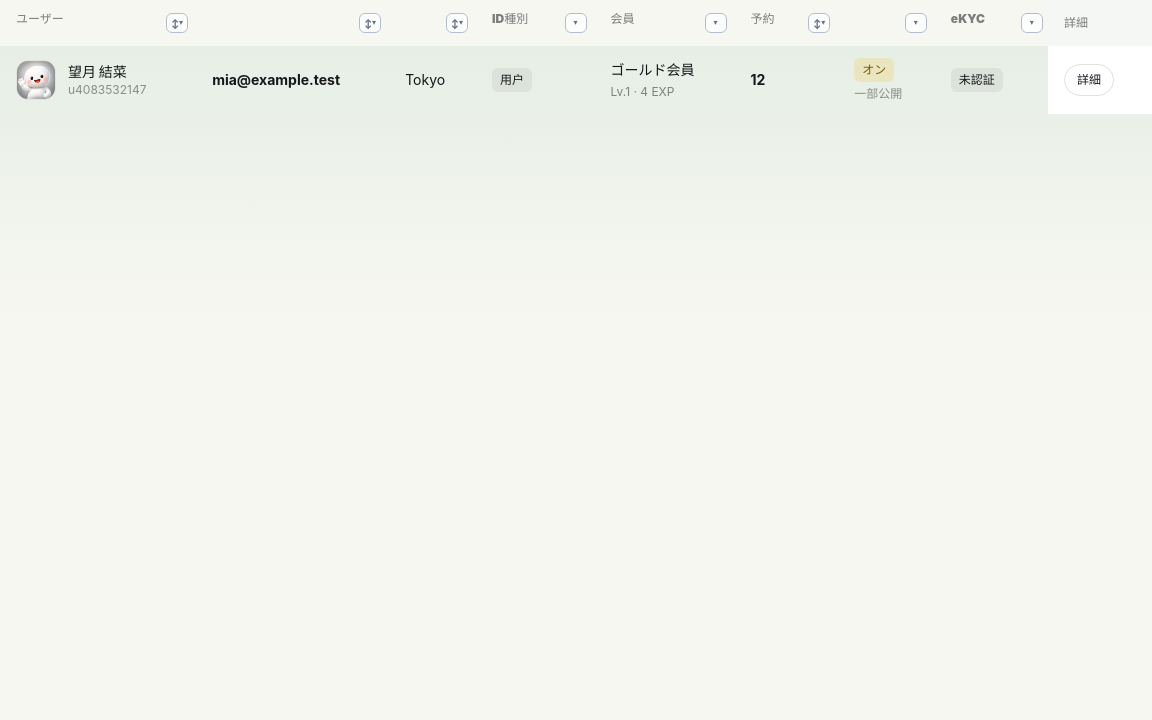
UnifiedUserTable › does not offer sorting for columns without a supported server sort key
The image size is (1152, 720).
Click the button with class "needo-table-filter-trigger" next to "ID種別": x=576, y=23 top-left (564, 13), bottom-right (586, 33)
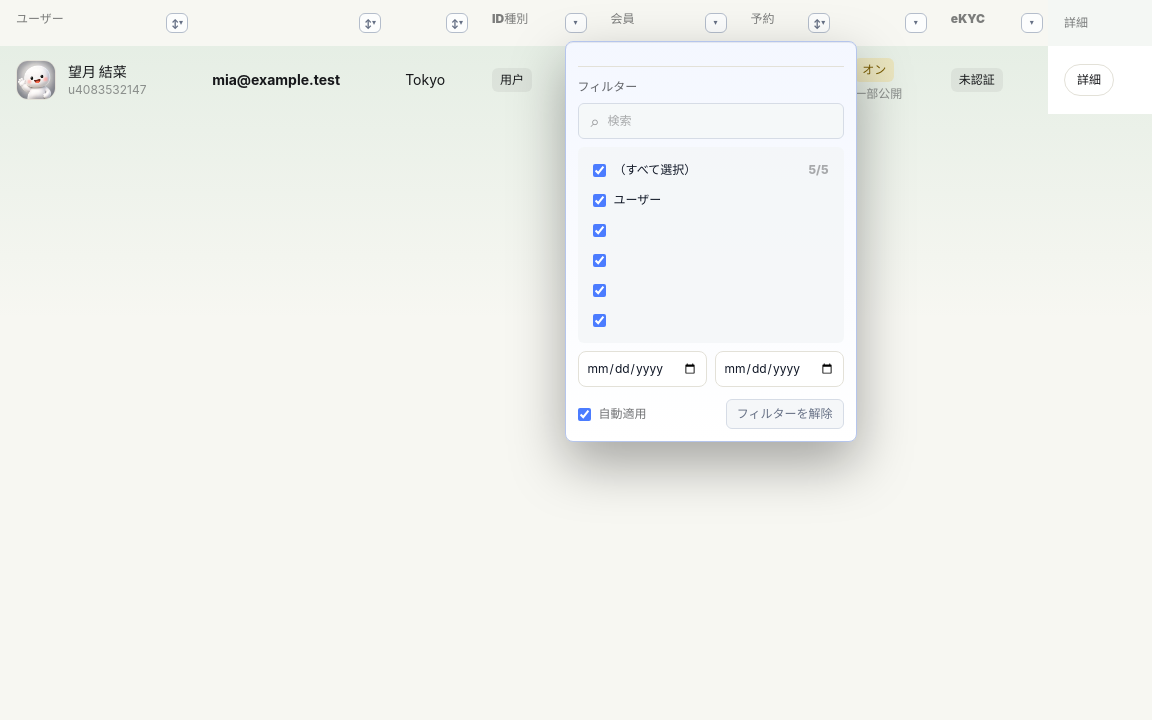
Check: the text "フィルター" is shown, box top-left (578, 79), bottom-right (637, 94)
Check: the text "自動適用" is shown, box top-left (578, 406), bottom-right (646, 422)
Check: the text "フィルターを解除" is shown, box top-left (726, 399), bottom-right (844, 429)
